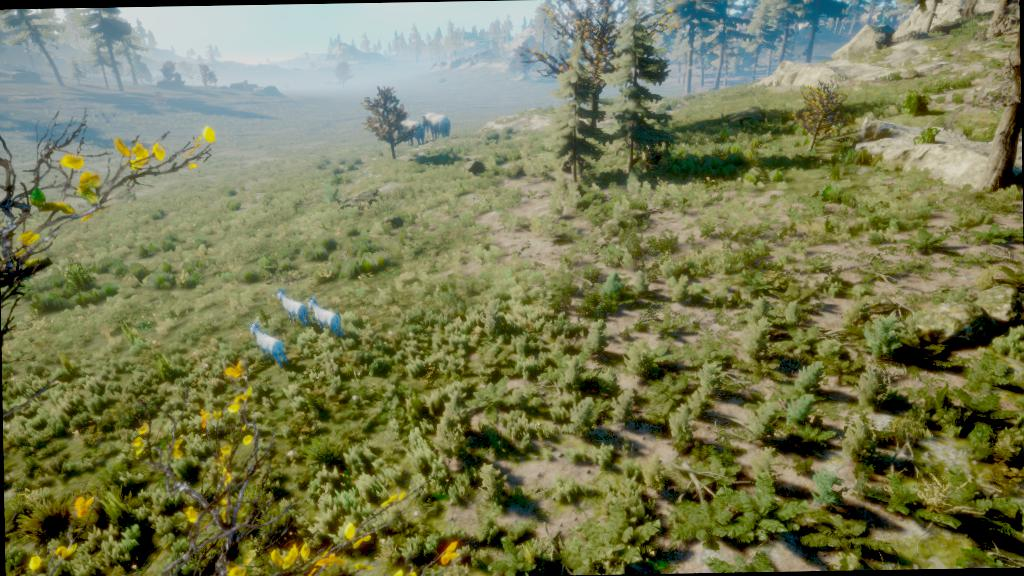zebra: (242, 315, 294, 383), (305, 292, 359, 340), (267, 284, 309, 328)
